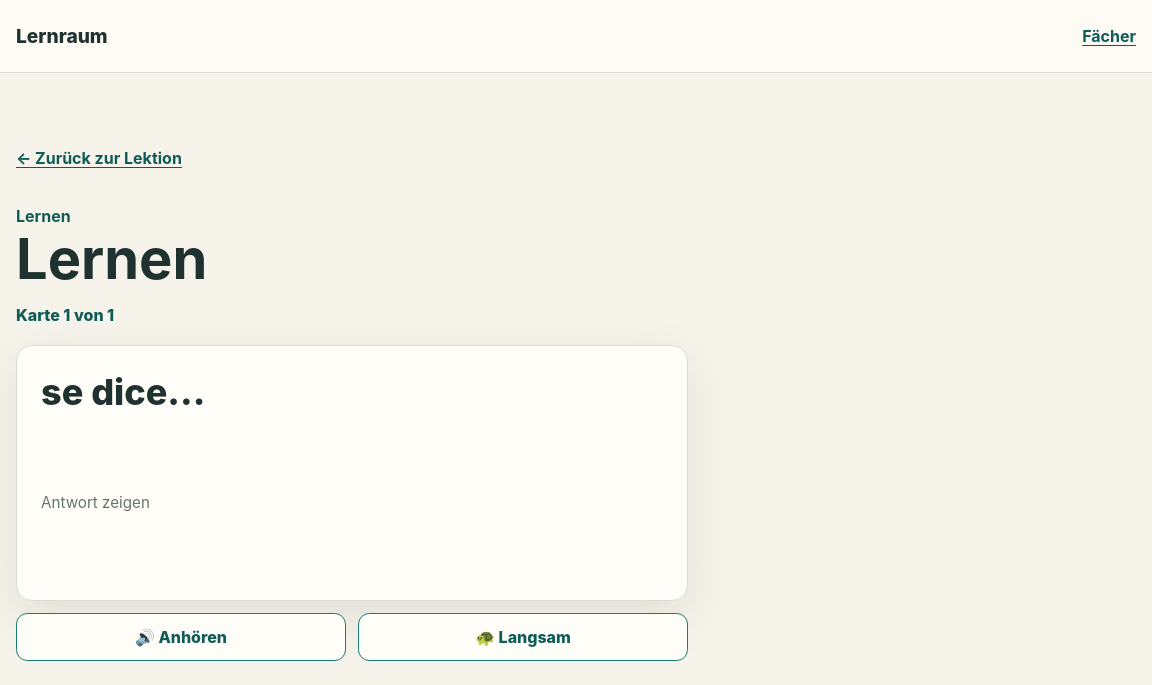
Test case: LearnMode › keeps the prompt, revealed answer, example, and action in the flashcard name
Click the button "se dice... Antwort zeigen" at (352, 473), box x1=16 y1=345 x2=688 y2=601
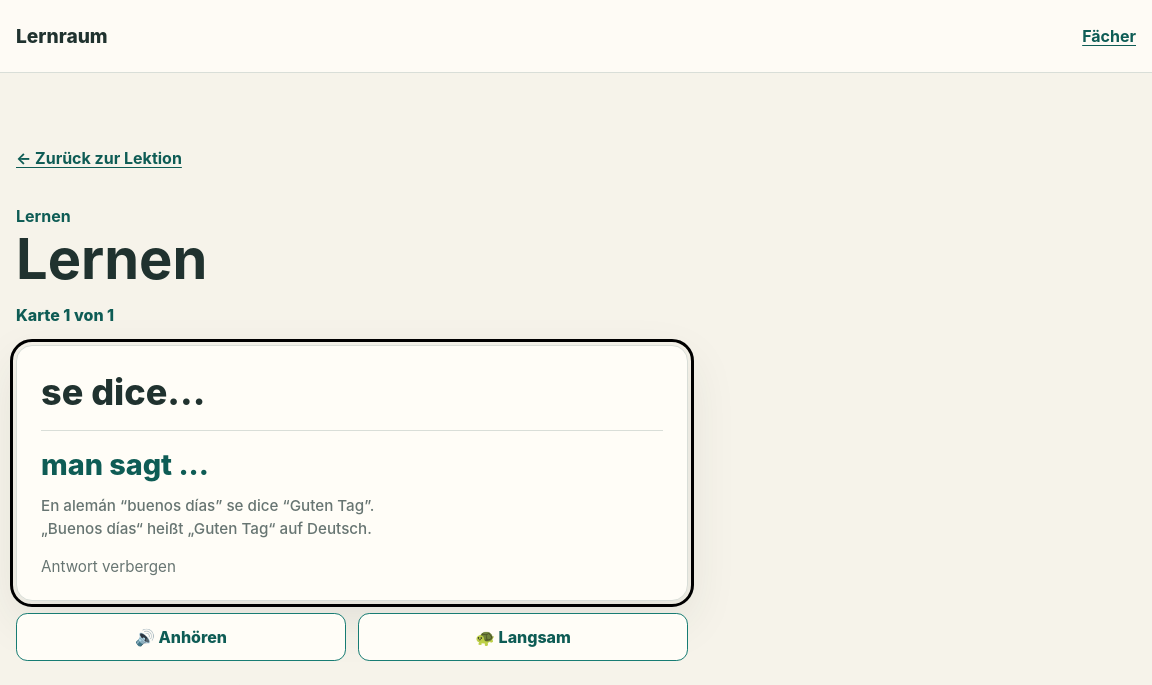
Now the text "En alemán “buenos días” se dice “Guten Tag”." is shown, box x1=41 y1=496 x2=374 y2=515
Now the text "„Buenos días“ heißt „Guten Tag“ auf Deutsch." is shown, box x1=41 y1=519 x2=372 y2=538
